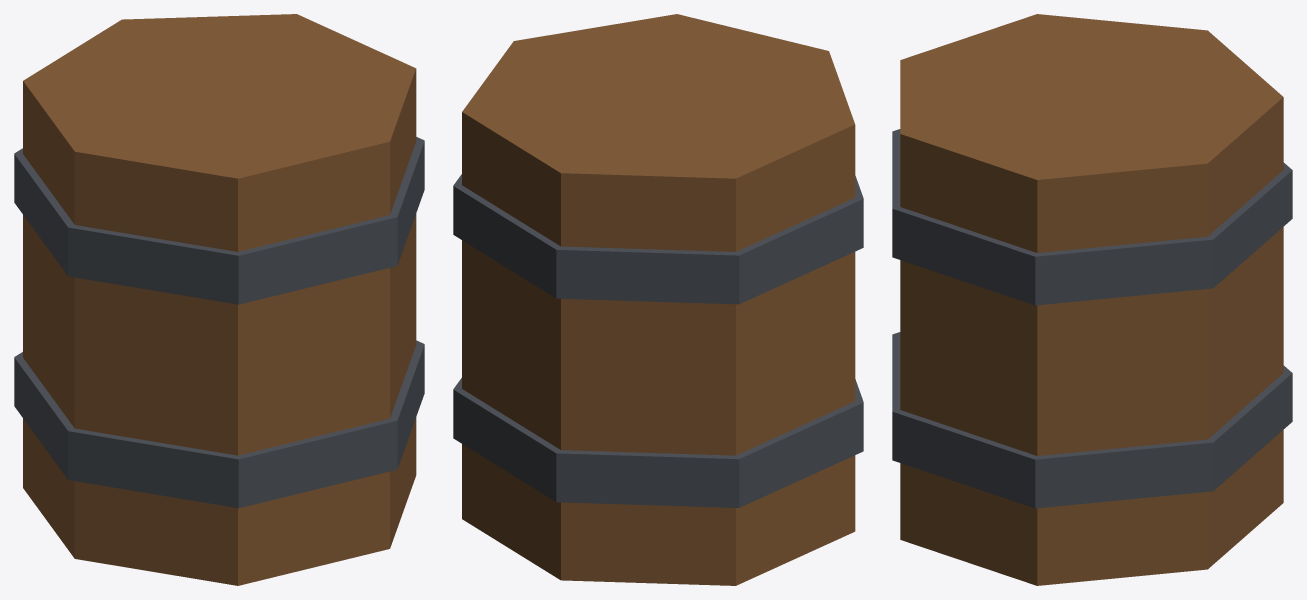
The model's file is good_7.glb.
3 renders of one model, left to right at view 1: azimuth 30°, elevation 25°; view 2: azimuth 150°, elevation 25°; view 3: azimuth 270°, elevation 25°, orthographic.
Visible parts, largest first — view 1: good_7; view 2: good_7; view 3: good_7.
Boxes of the visible parts, x1=… form: good_7: x1=14, y1=14, x2=424, y2=585; good_7: x1=453, y1=14, x2=863, y2=585; good_7: x1=892, y1=14, x2=1292, y2=585.
Bounding box in the file's own units: 0.0916 × 0.1 × 0.0893.
